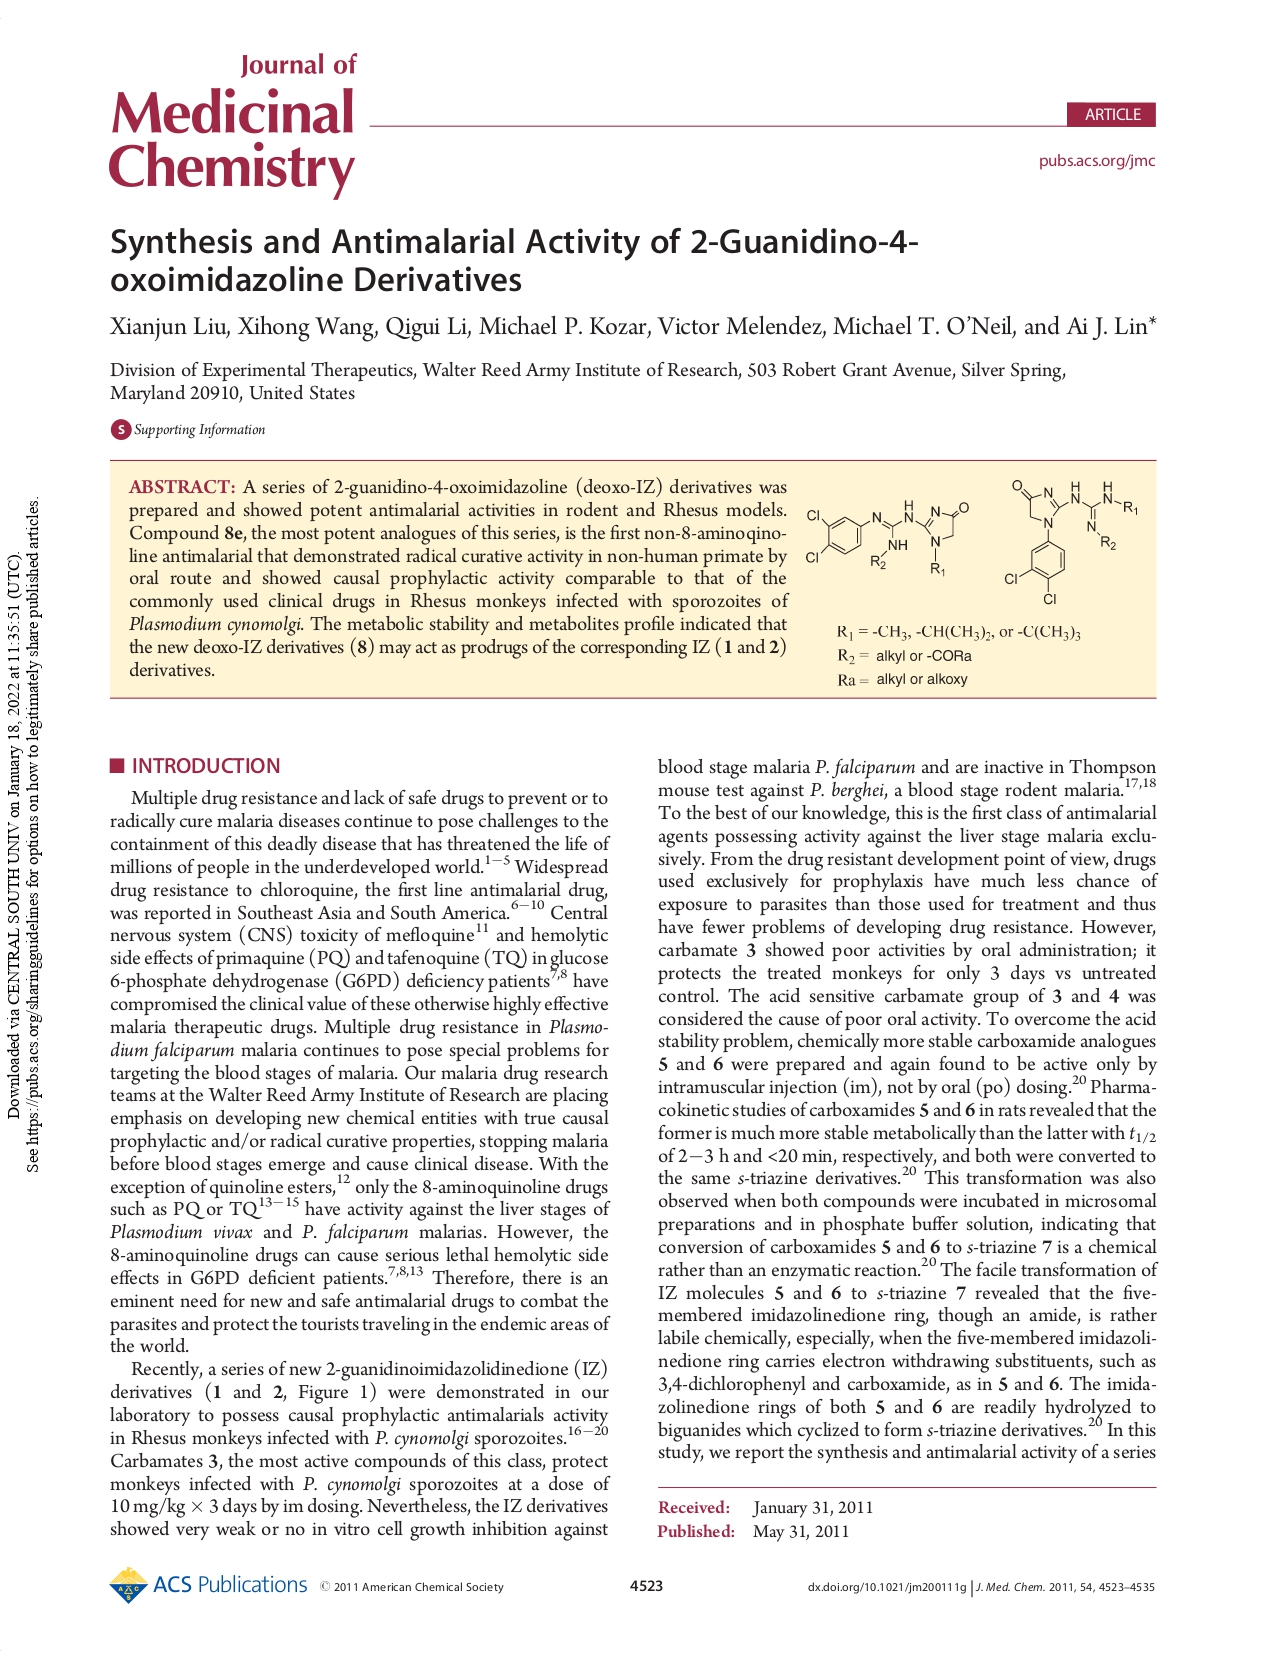exist_molecular: (997, 476, 1141, 606), (802, 495, 972, 581)
